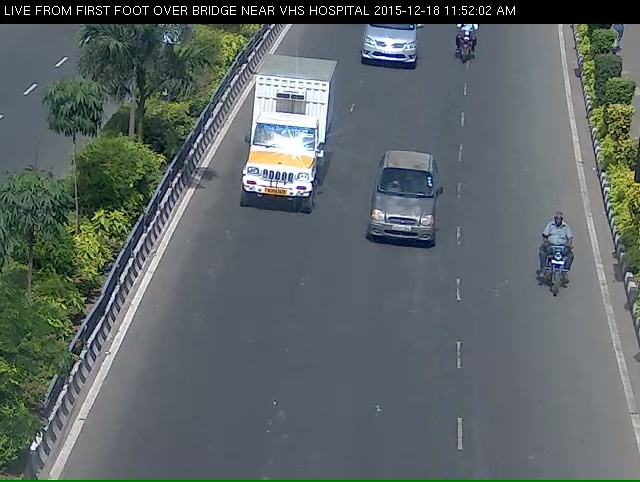Car: (242, 74, 319, 227), (361, 170, 446, 276), (356, 24, 420, 83)
Person: (543, 222, 579, 316), (449, 23, 481, 73)
